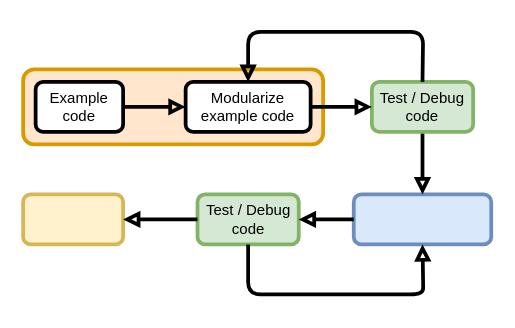
The diagram is 515 pixels wide and 328 high, and some of its shapes have lost their labels. Each missing label, with the box of its shape:
Finish README: (21, 192, 124, 246)
New developing code (Modulaized): (351, 192, 492, 246)
